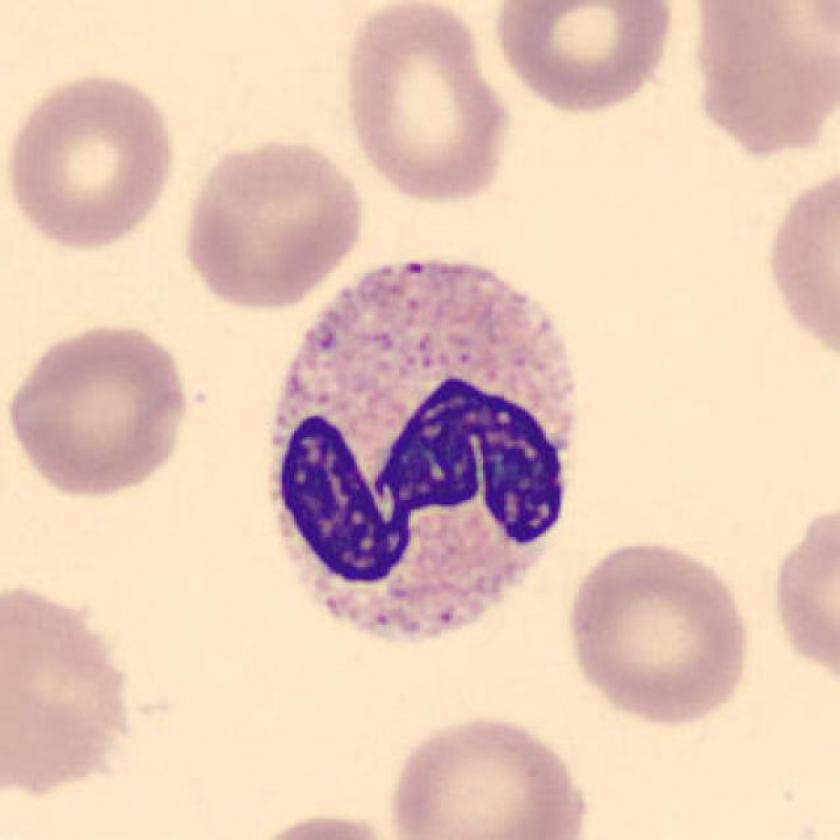neutrophil: (269, 265, 573, 643)
